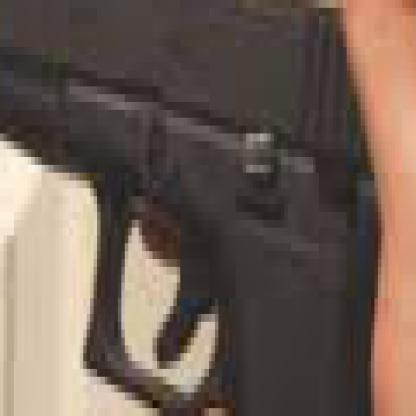gun: (0, 0, 413, 408)
